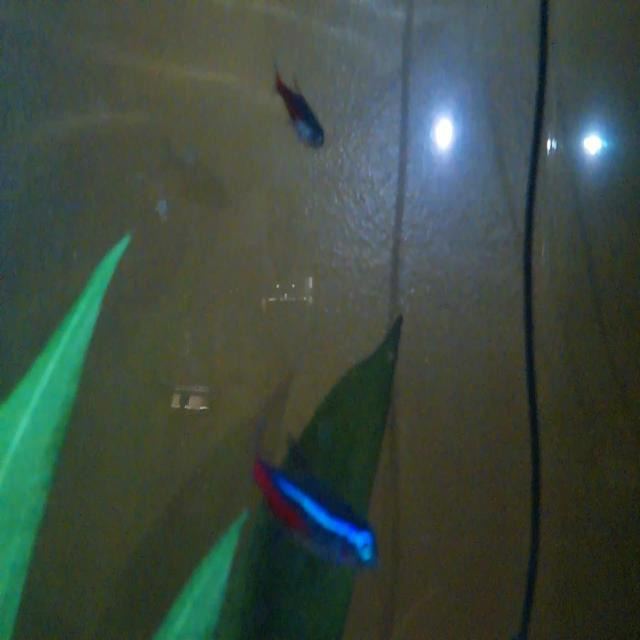fish: (232, 407, 388, 571), (259, 51, 337, 163)
